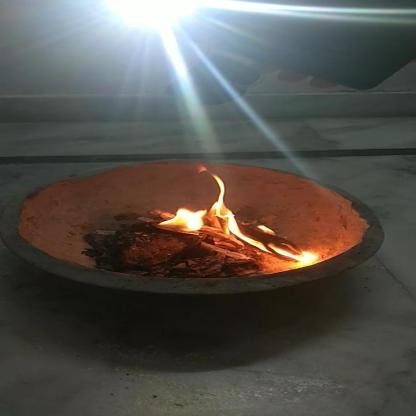fire: (154, 175, 314, 263)
